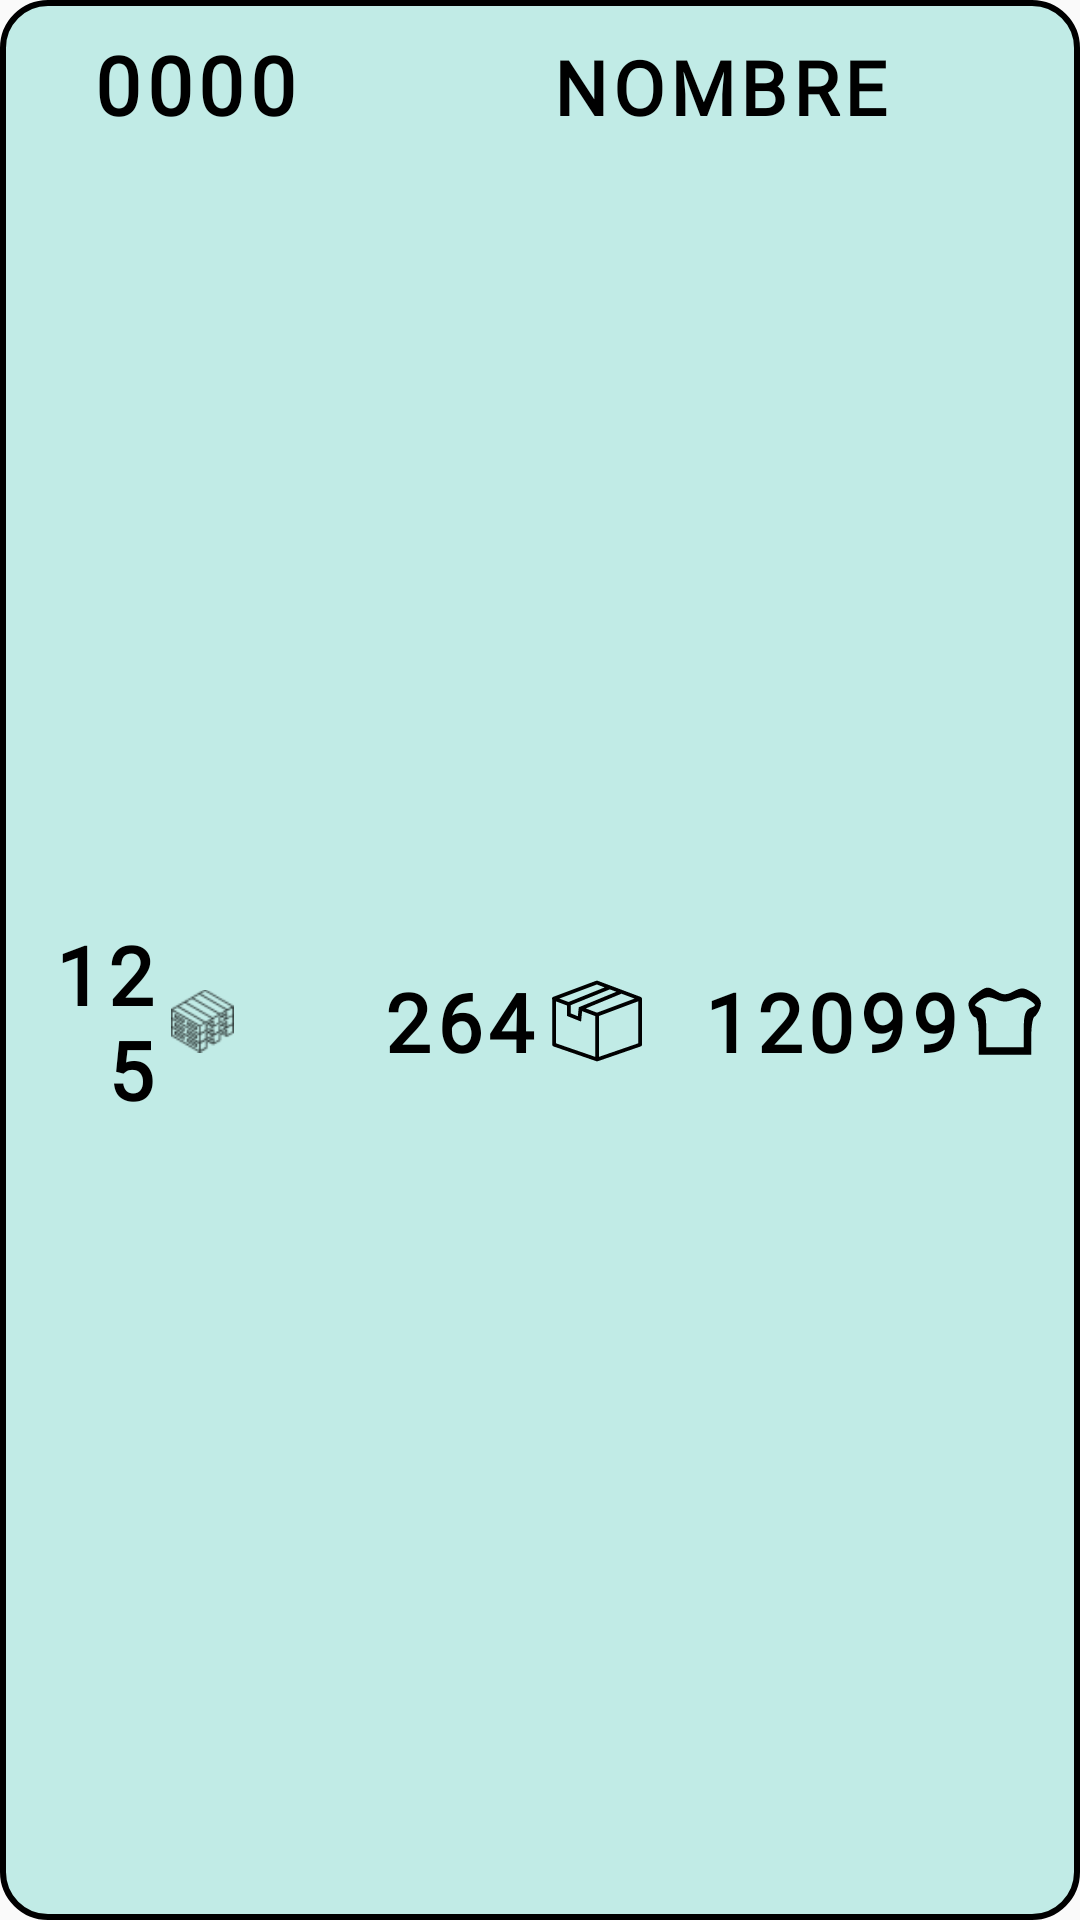

Icons on this 1080 x 1920 Android screen, each with the point to tap as [x,y]:
caja: [597,1021]
palet: [202,1021]
